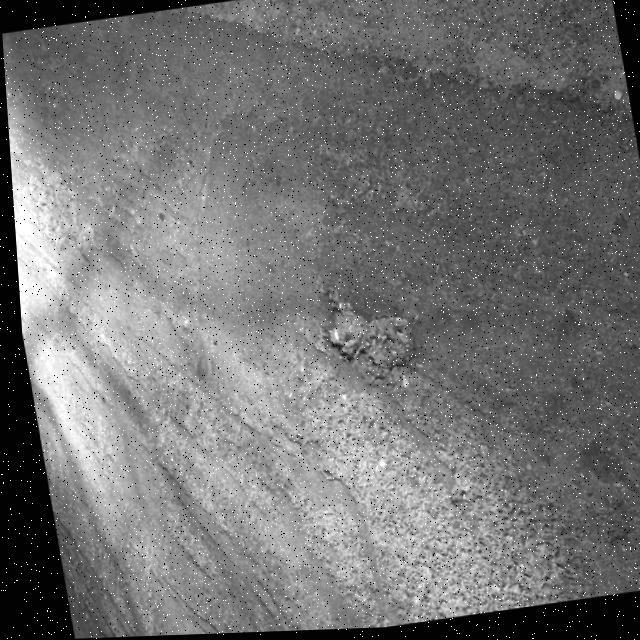pothole: (312, 294, 414, 382)
